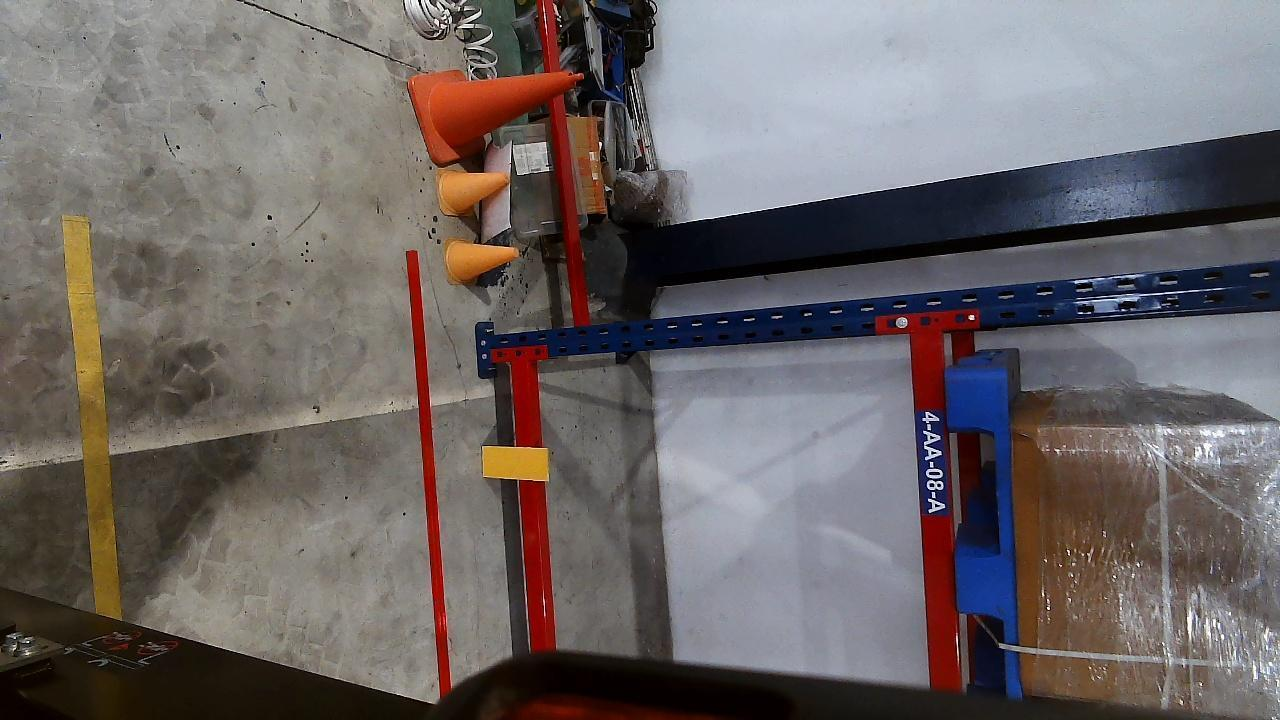red_line: (409, 250, 452, 694)
yellow_line: (58, 213, 119, 621)
